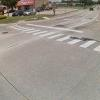Crosswalk: (12, 14, 100, 59)
